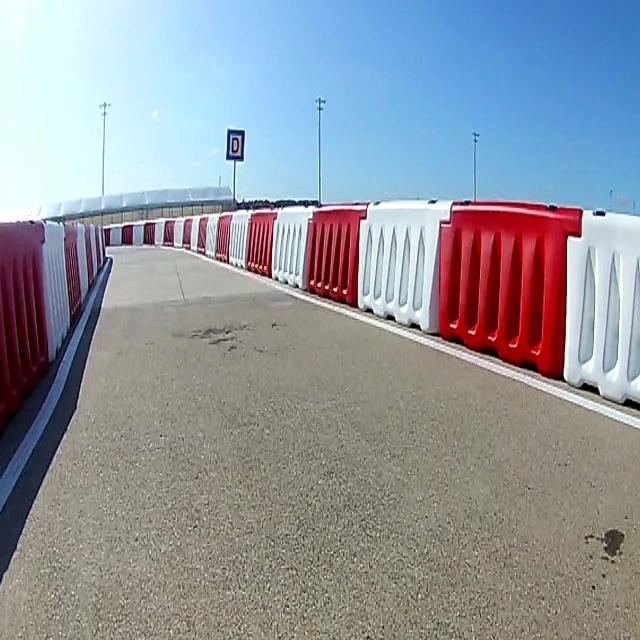durak: (226, 131, 244, 161)
